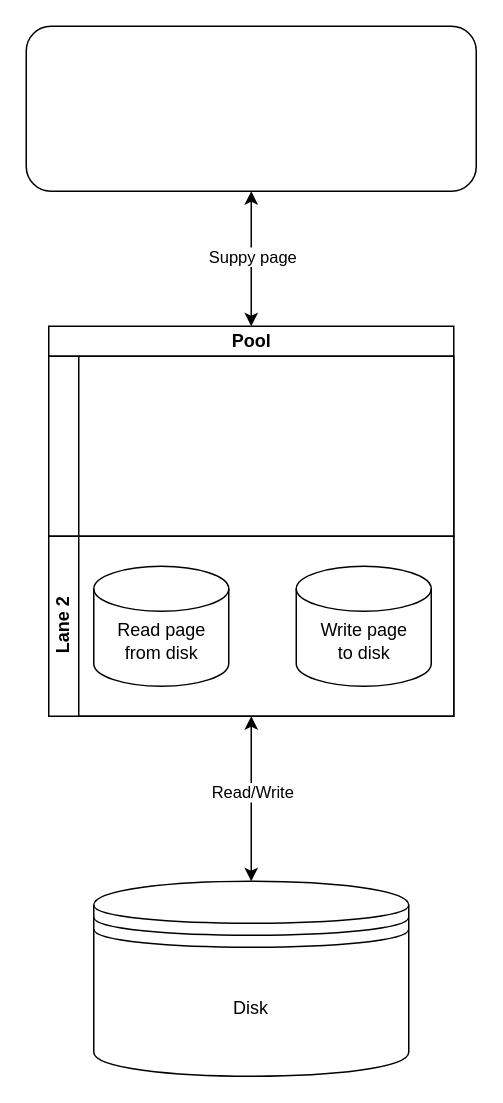
This 503x1103 diagram has some shape labels left out. The shapes that lost their labels are listed below. From the top down, each one's centre as x and y in pixels, then its label:
[250,108]: System Application
[250,445]: Lane 1
